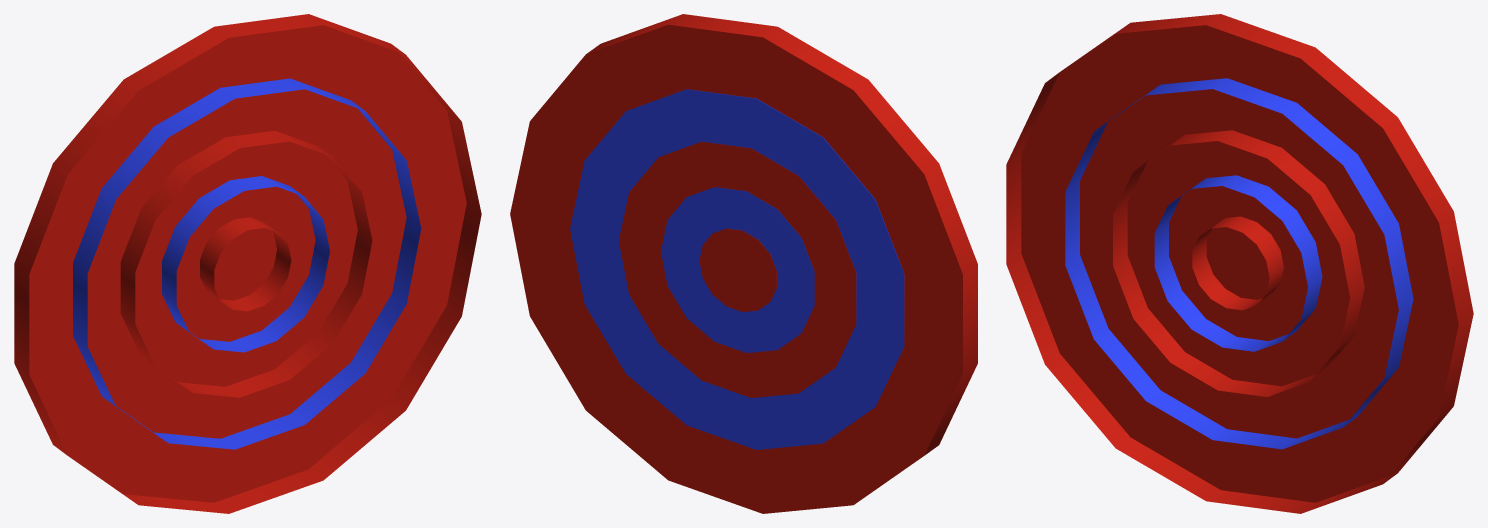
Rendered from bang phi tieu.FBX.
3 renders of one model, left to right at view 1: azimuth 30°, elevation 25°; view 2: azimuth 150°, elevation 25°; view 3: azimuth 330°, elevation 25°, orthographic.
Parts seen in each view (by area): view 1: Cylinder107; view 2: Cylinder107; view 3: Cylinder107.
Boxes of the visible parts, <box> form: Cylinder107: <box>14,14,481,513</box>; Cylinder107: <box>510,14,977,513</box>; Cylinder107: <box>1006,14,1473,513</box>.
Bounding box in the file's own units: 2.56 × 2.58 × 0.1513.
